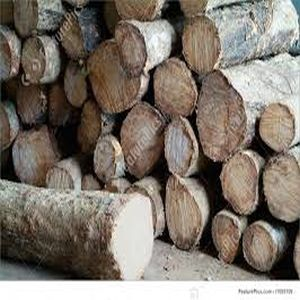log: (194, 70, 251, 163), (103, 194, 156, 283), (86, 42, 144, 113), (119, 102, 169, 179), (161, 174, 208, 251), (259, 150, 300, 228), (214, 150, 261, 215), (152, 58, 199, 122), (181, 15, 226, 73), (161, 118, 200, 179), (256, 100, 300, 153), (240, 221, 282, 275), (113, 21, 151, 78), (8, 132, 48, 184), (206, 209, 242, 263), (17, 34, 55, 85), (70, 101, 103, 155), (89, 137, 123, 185), (15, 83, 51, 125), (61, 59, 88, 109), (59, 15, 88, 56), (11, 1, 42, 35), (44, 162, 76, 193)
